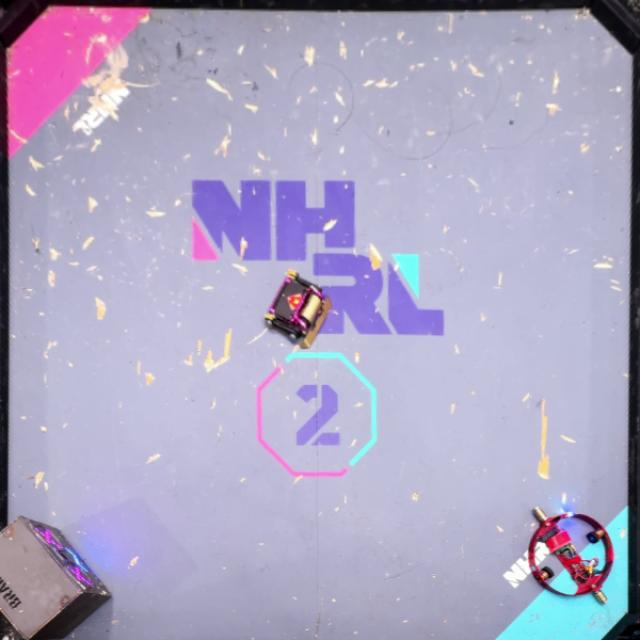housebot: (0, 515, 114, 639)
robot: (528, 507, 614, 604), (264, 271, 332, 349)
